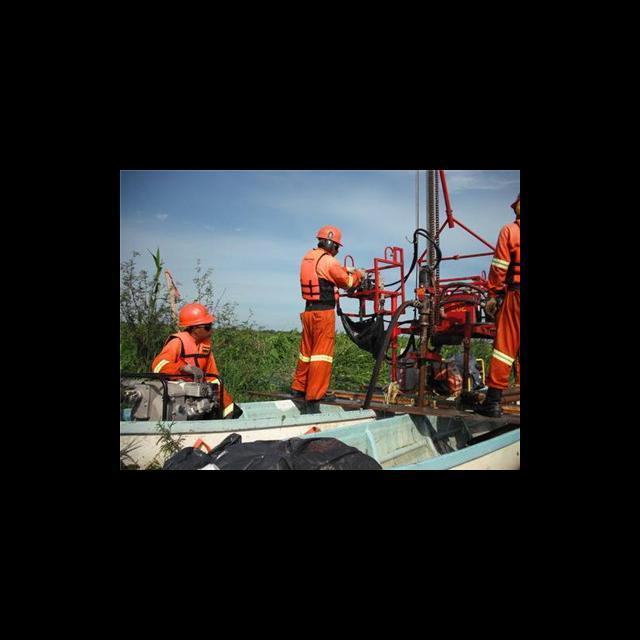helmet: (166, 294, 221, 336), (304, 224, 344, 249)
safety_vest: (284, 238, 359, 399), (142, 327, 243, 420), (478, 219, 522, 399)
